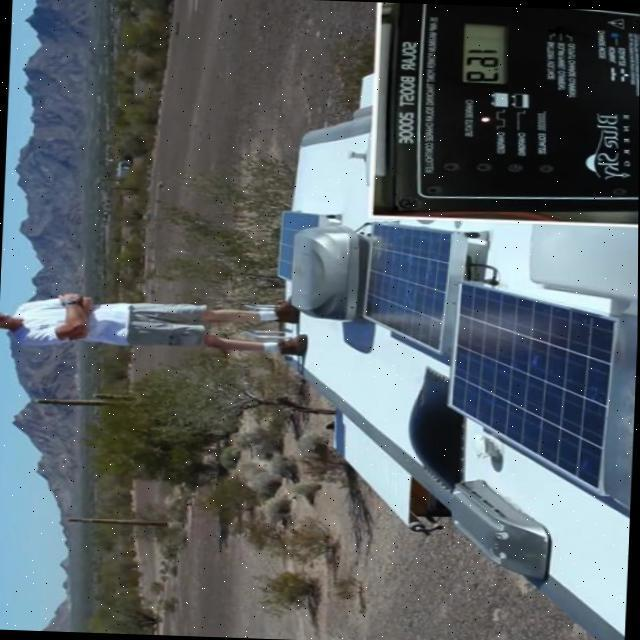Normal Solar Panel: (444, 282, 618, 496), (360, 224, 456, 351), (274, 212, 318, 282)
